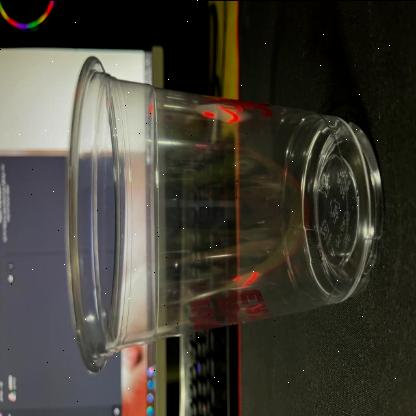Others: (65, 49, 384, 376)
